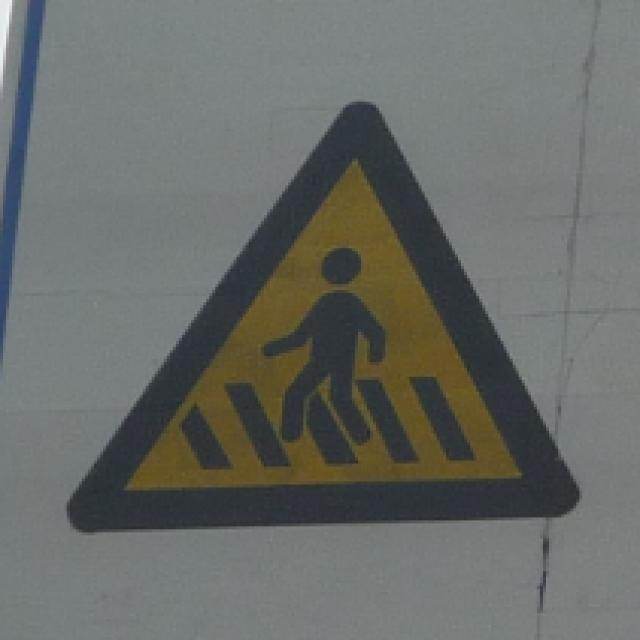Crossing: (65, 87, 576, 549)
